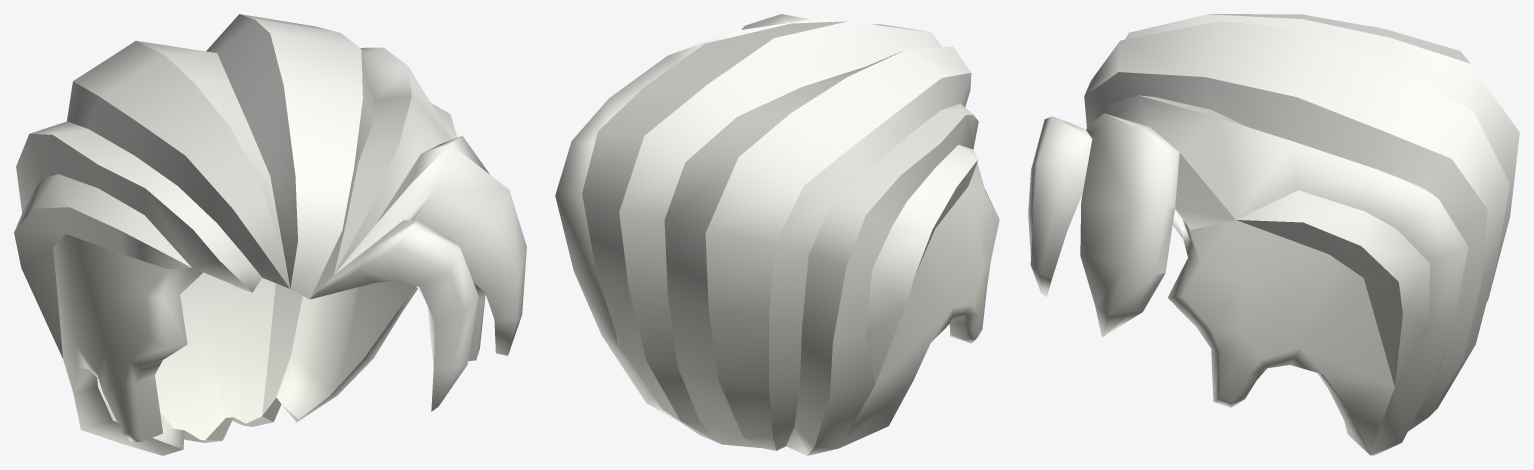
File: Hair_White_8.fbx
3 views of the same model, side by side, from view 1: azimuth 30°, elevation 25°; view 2: azimuth 150°, elevation 25°; view 3: azimuth 270°, elevation 25° (orthographic). The views are drawn at different scales.
Visible parts, largest first — view 1: Hair_White_8; view 2: Hair_White_8; view 3: Hair_White_8.
Boxes of the visible parts, <box> form: Hair_White_8: <box>14,14,526,455</box>; Hair_White_8: <box>555,14,999,455</box>; Hair_White_8: <box>1028,14,1519,455</box>.
Bounding box in the file's own units: 54.98 × 58.06 × 64.93.
